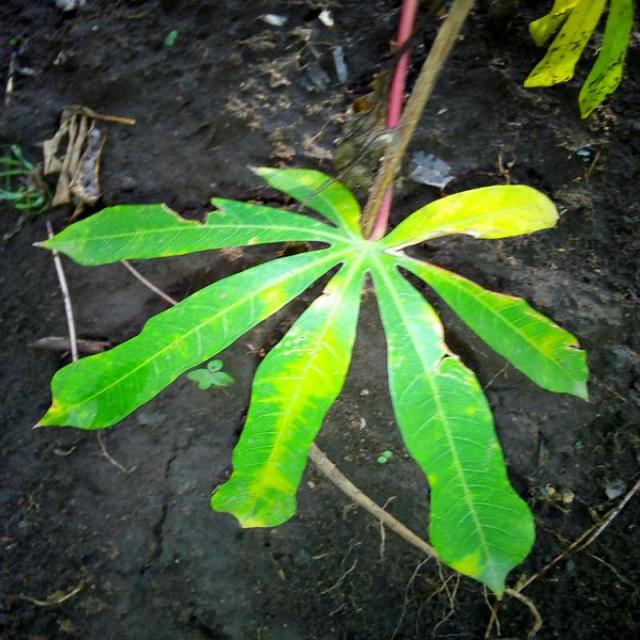cassava leaf: (30, 161, 589, 597), (368, 248, 536, 598)
